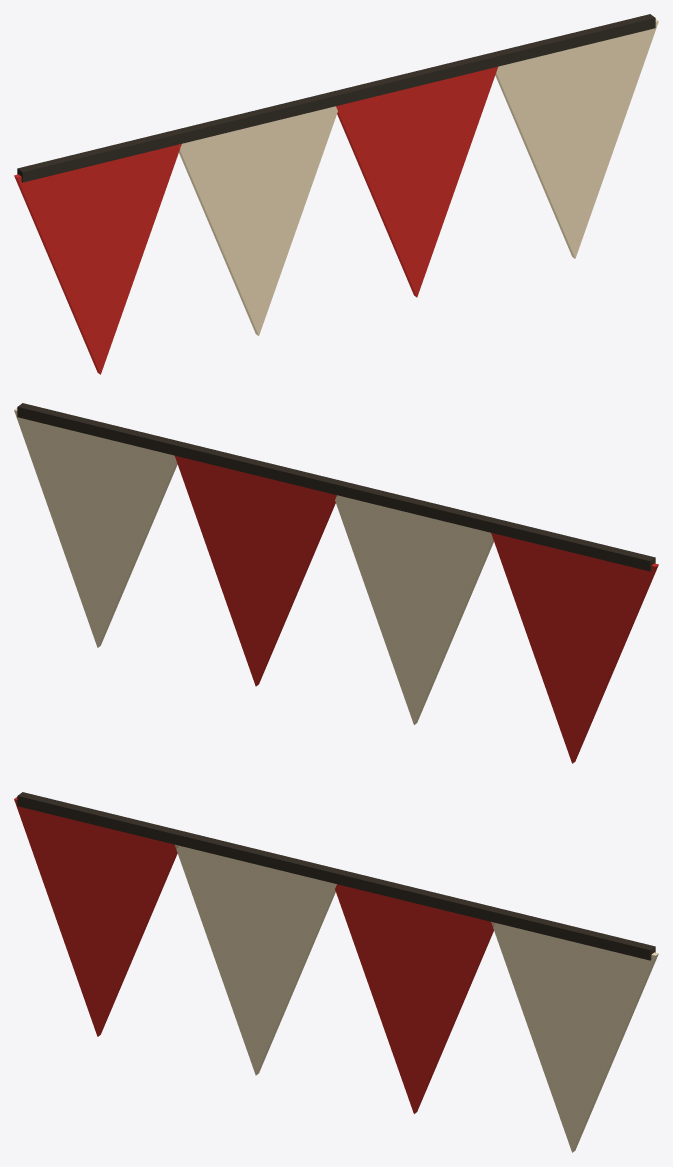
The model's file is paper-bunting-half.fbx.
3 renders of one model, top to bottom at view 1: azimuth 30°, elevation 25°; view 2: azimuth 150°, elevation 25°; view 3: azimuth 330°, elevation 25°, orthographic.
Parts seen in each view (by area): view 1: paper-bunting-half; view 2: paper-bunting-half; view 3: paper-bunting-half.
Part boxes in pixels (left/top/right/bottom): paper-bunting-half: left=14, top=14, right=658, bottom=374; paper-bunting-half: left=14, top=403, right=658, bottom=763; paper-bunting-half: left=14, top=792, right=658, bottom=1152.
Size of the model in its own units: 1420 by 471 by 20.
1 material, 1 textured.
